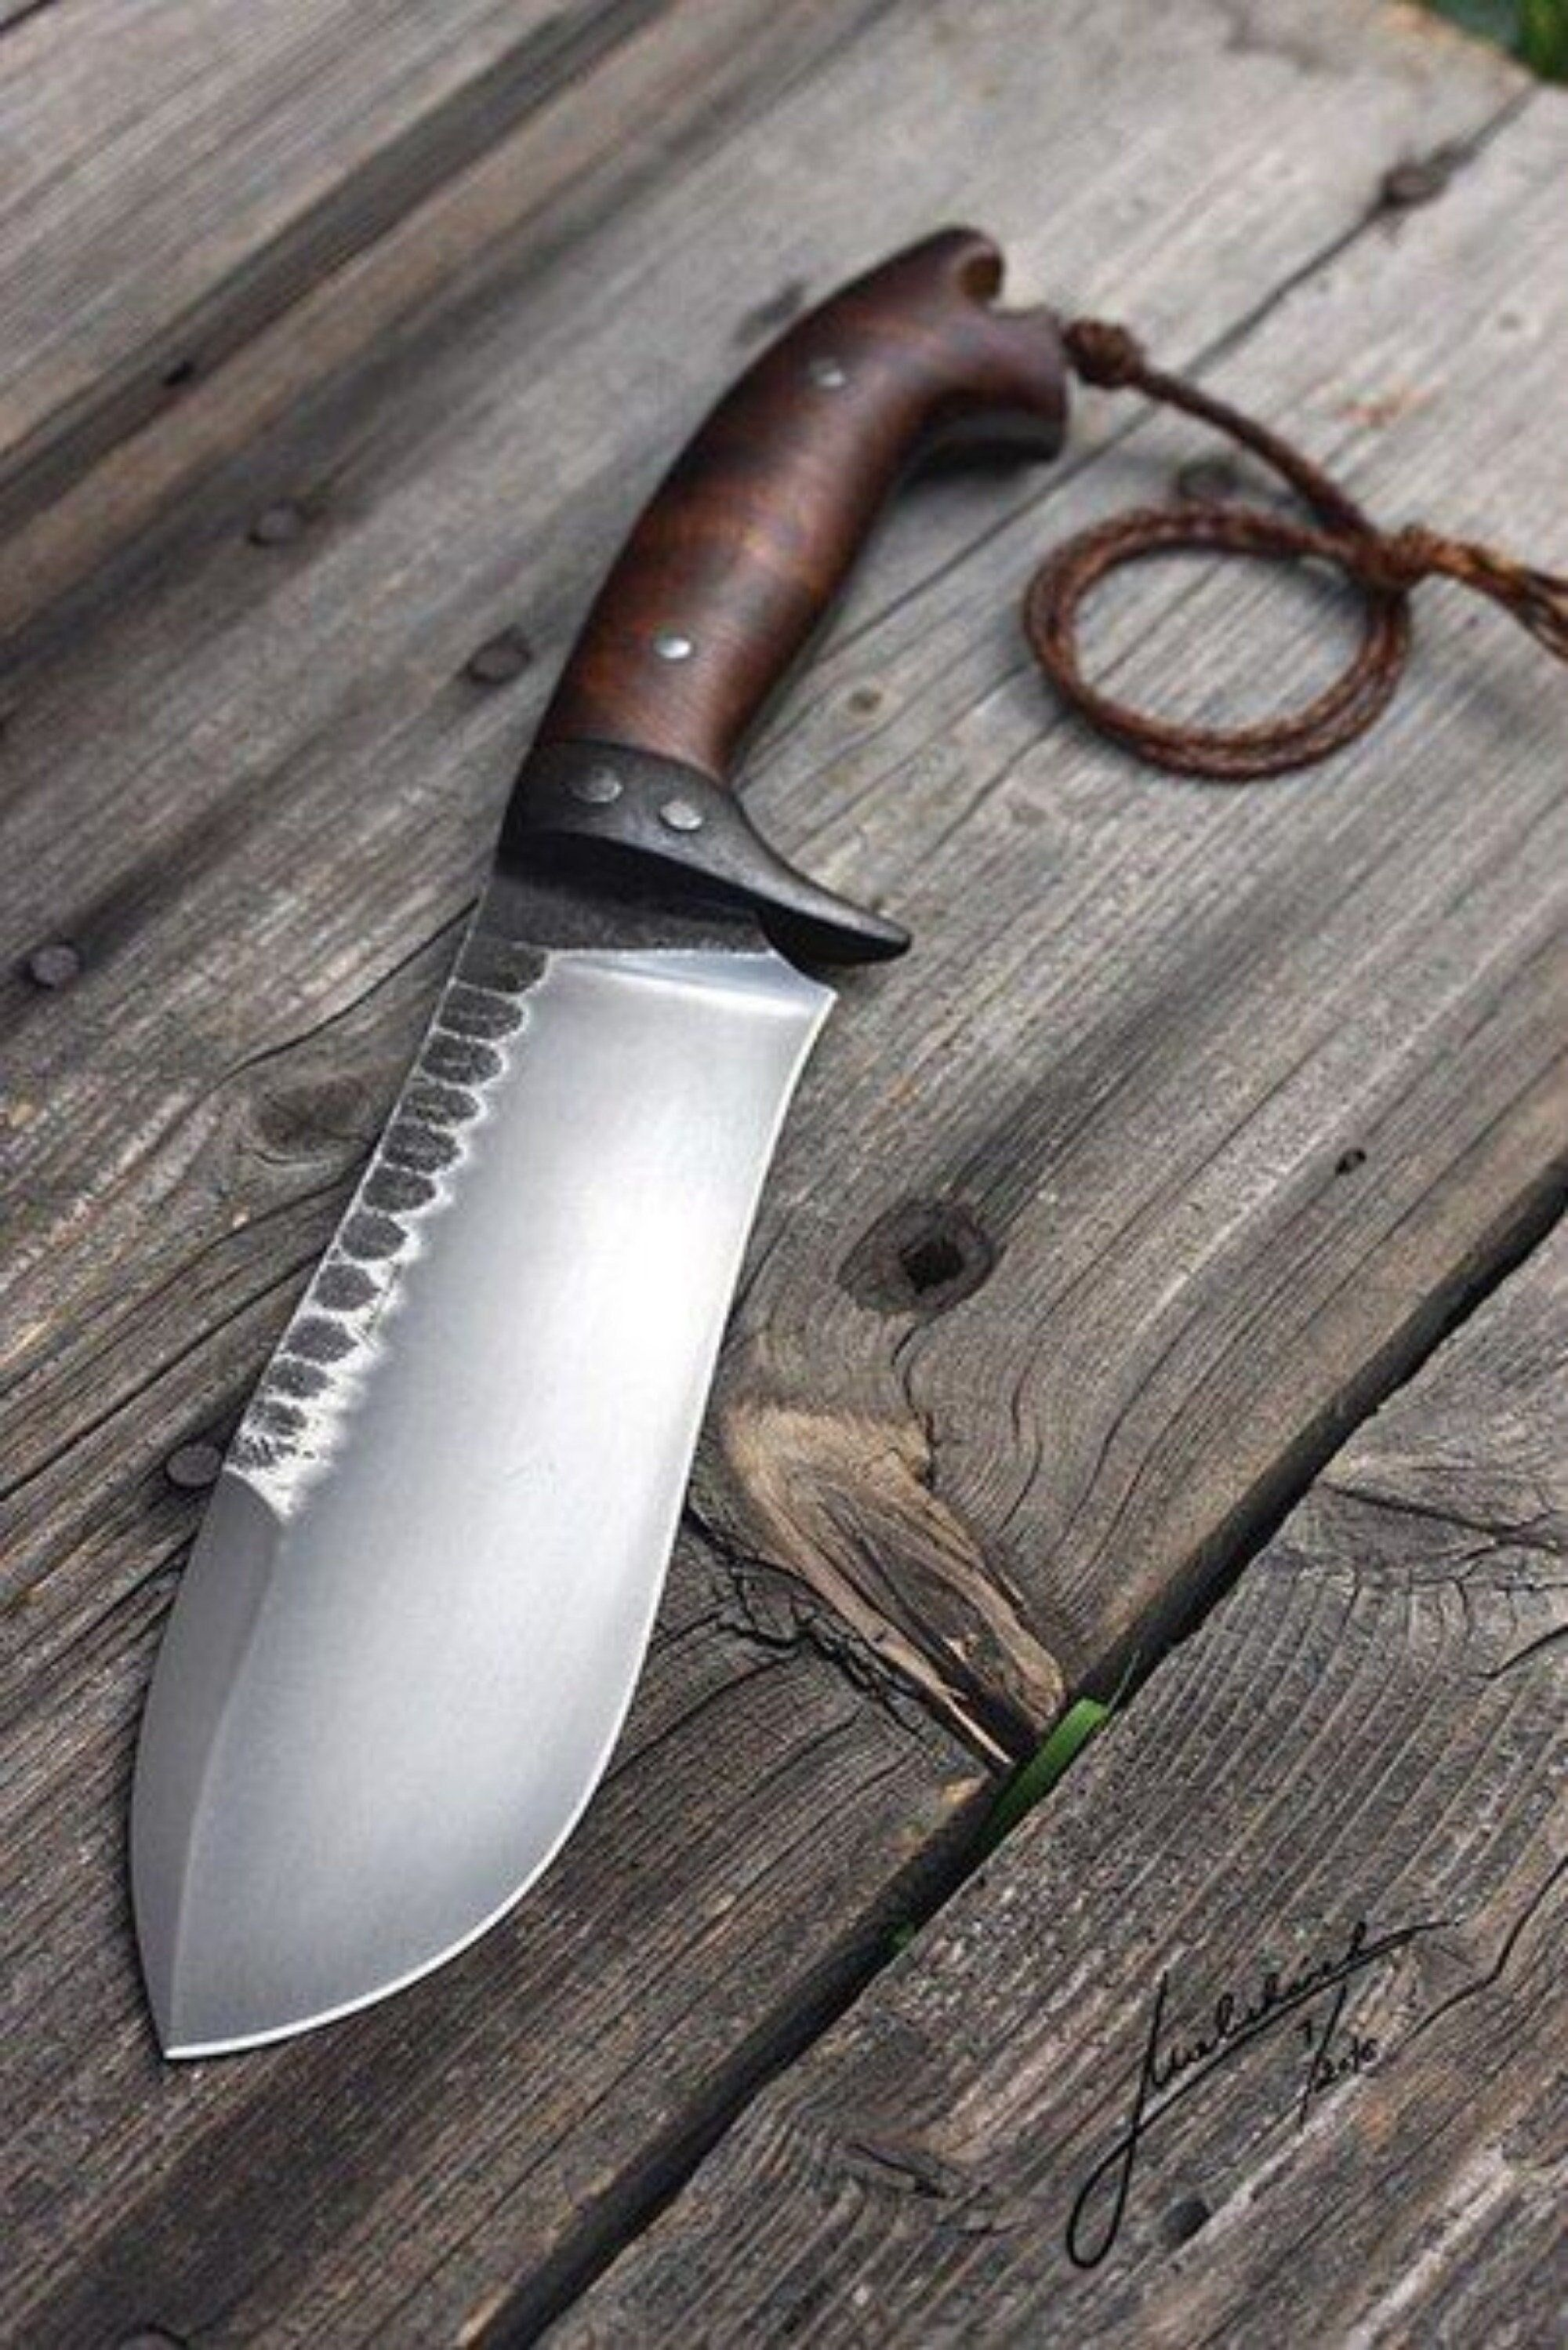knife: (93, 203, 1118, 2103)
